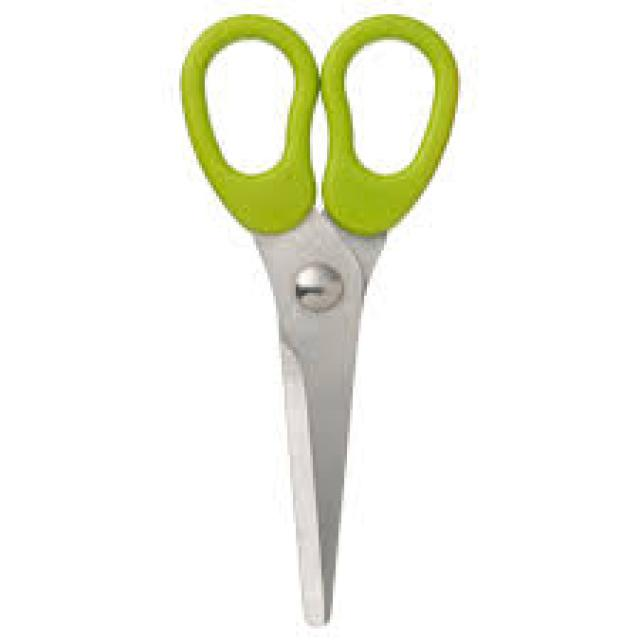Dry: (170, 10, 466, 632)
